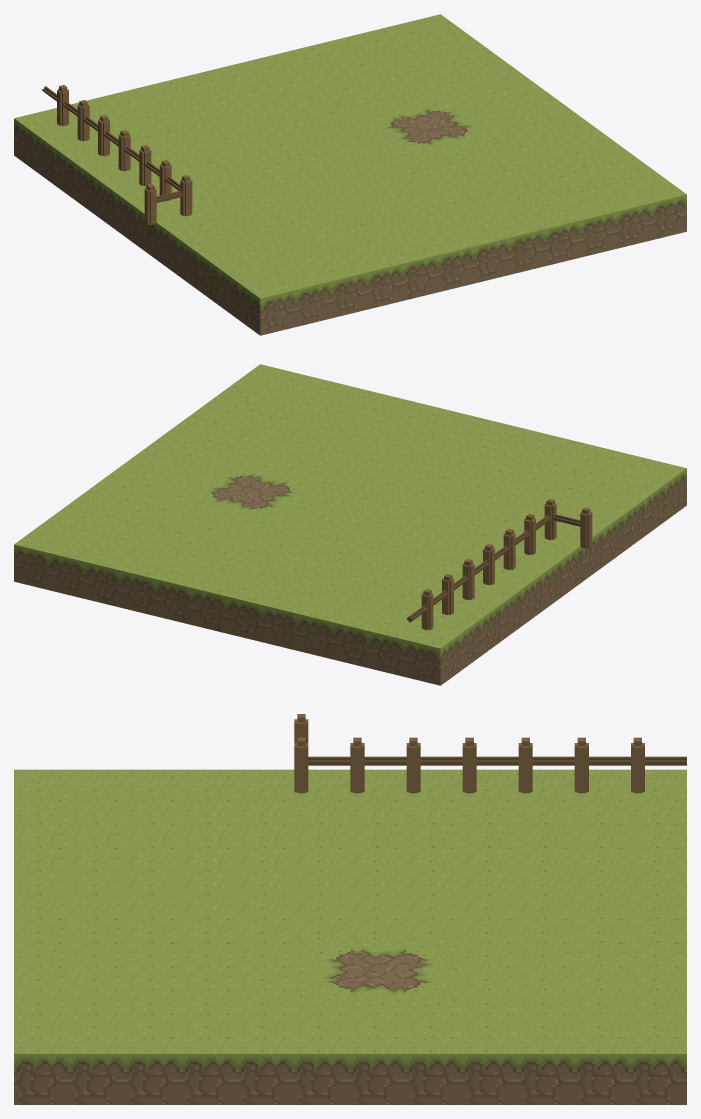
Rendered from map1.15.vox.obj.
3 renders of one model, top to bottom at view 1: azimuth 30°, elevation 25°; view 2: azimuth 150°, elevation 25°; view 3: azimuth 270°, elevation 25°, orthographic. The views are drawn at different scales.
Bounding box in the file's own units: 24.5 × 4 × 24.
1 material, 1 textured.
